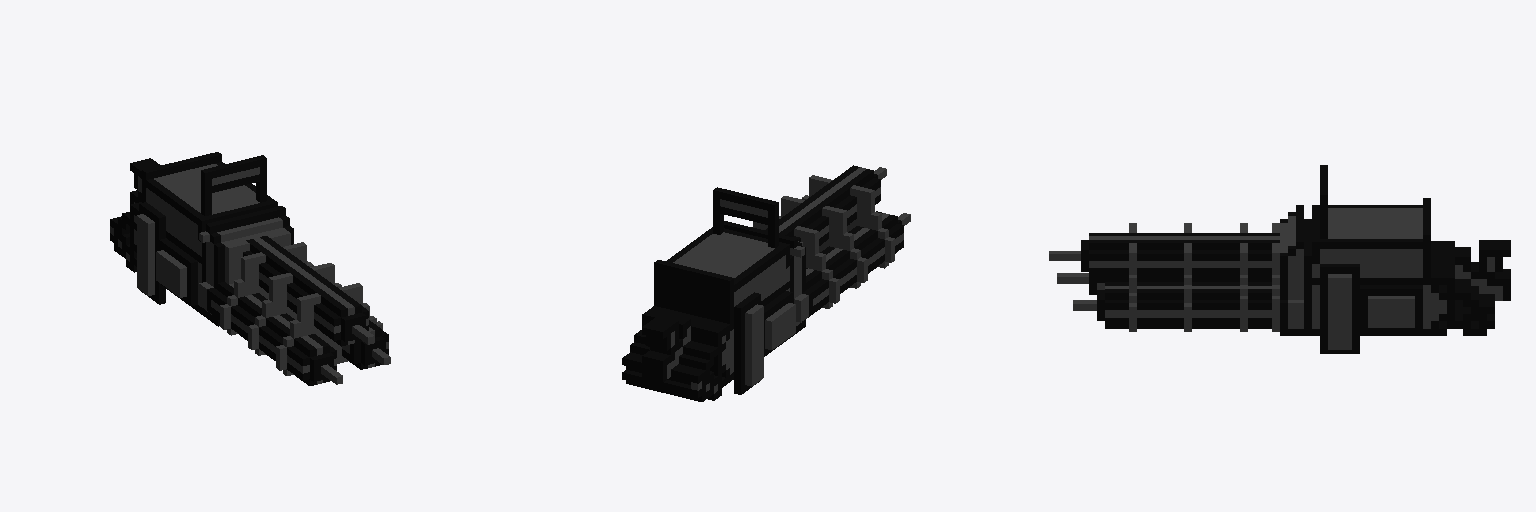
3 views of the same model, side by side, from view 1: azimuth 30°, elevation 25°; view 2: azimuth 150°, elevation 25°; view 3: azimuth 270°, elevation 25° (orthographic).
Parts seen in each view (by area): view 1: Model; view 2: Model; view 3: Model.
Boxes of the visible parts, box(x1,y1,x2,y2) form: Model: box(110, 152, 390, 385); Model: box(622, 165, 910, 401); Model: box(1049, 165, 1510, 353).
Bounding box in the file's own units: 15 × 21 × 58.
Materials: 1 (1 with a texture image).